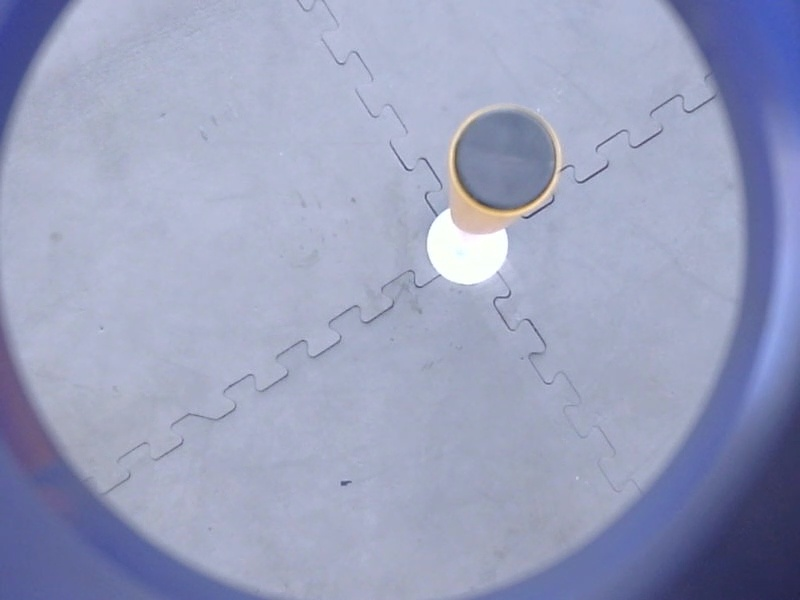tip: (443, 98, 570, 223)
